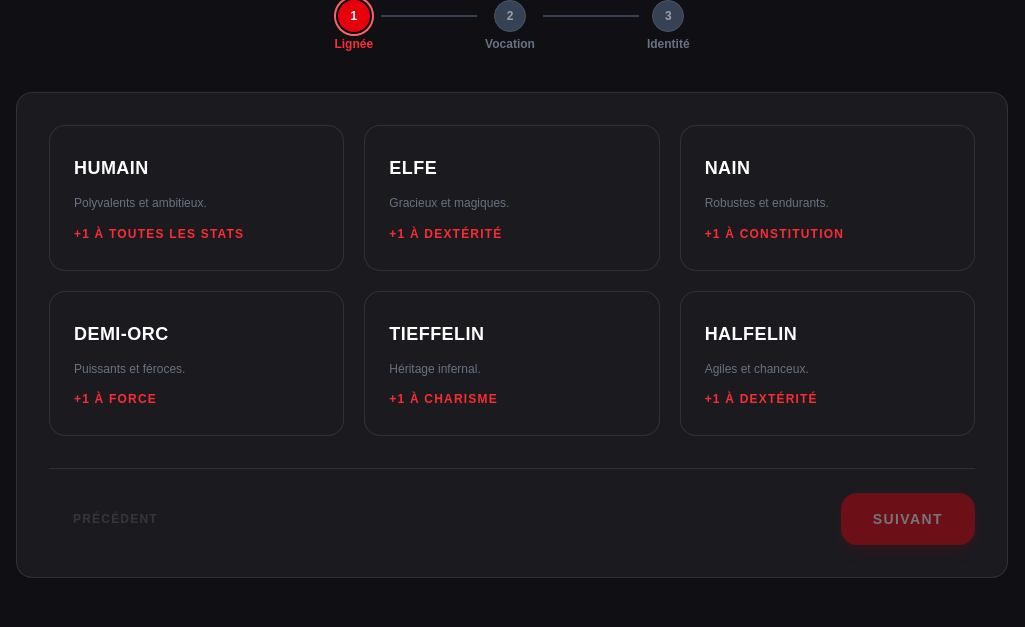
it: CharacterStep › navigation vers étape 2 — Identité › affiche le champ de saisie du nom
The image size is (1025, 627).
Click the text "Elfe" at (413, 168), box [389,158,437,178]
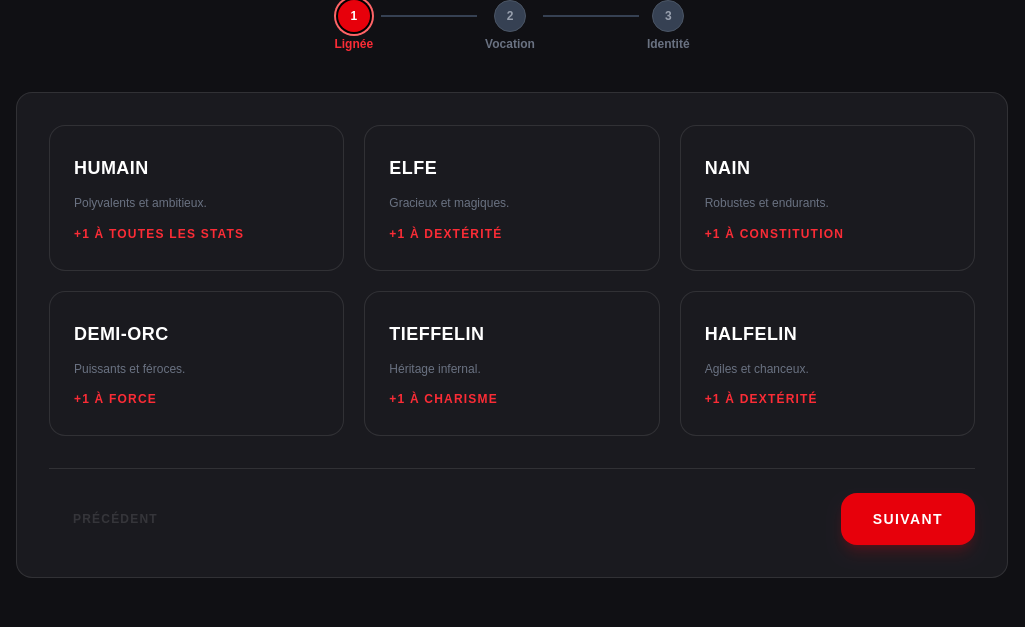
Click the button "Suivant" at (908, 519), box [841,493,975,545]
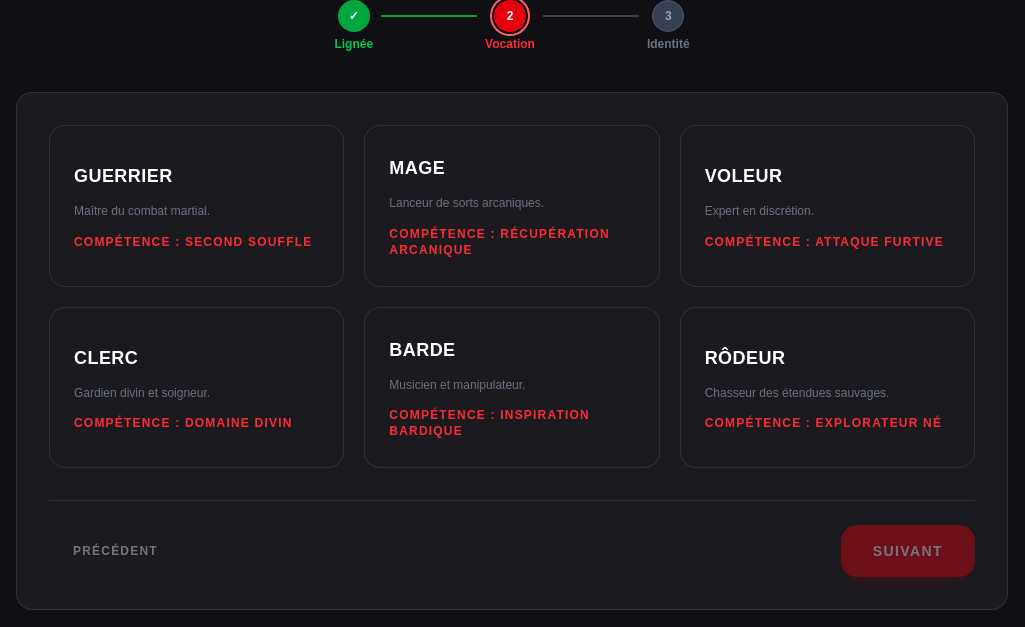
Click the text "Mage" at (417, 168), box [389,158,445,178]
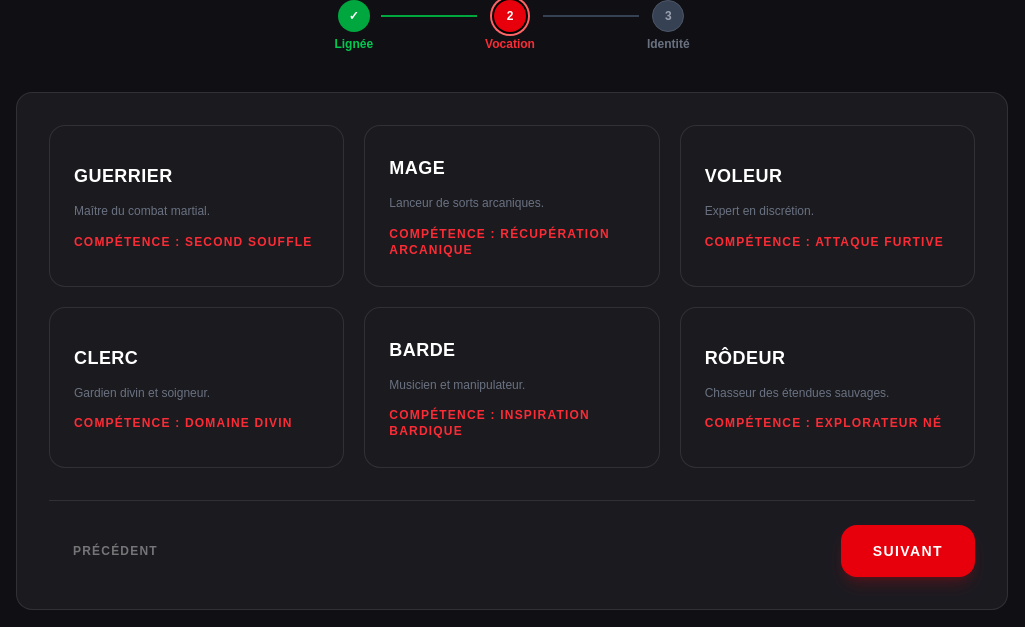
Click the button "Suivant" at (908, 551), box [841,525,975,577]
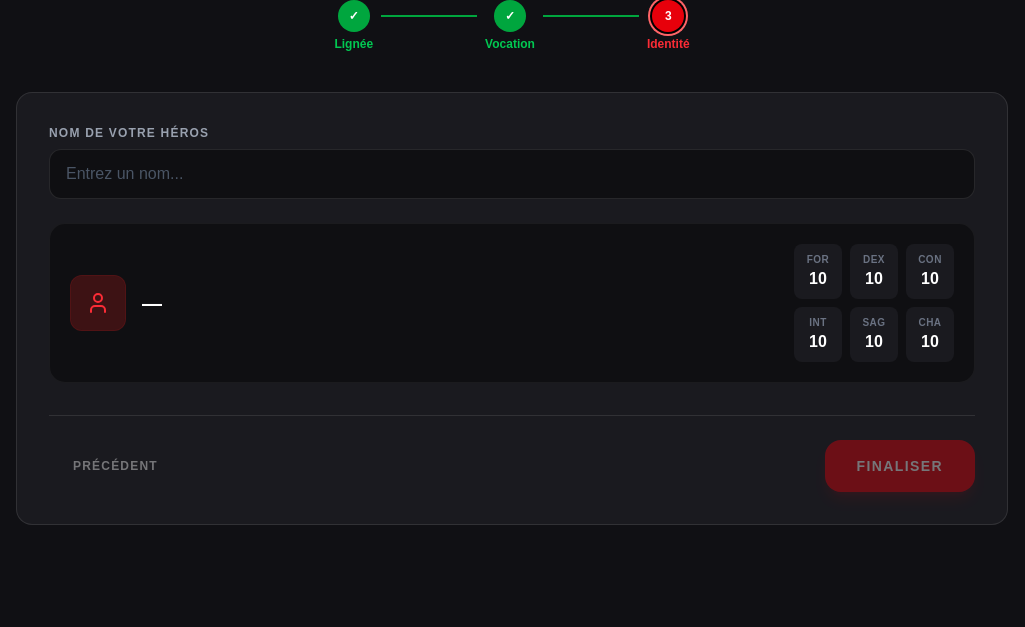
Expected: the field with placeholder "Entrez un nom..." is shown, [49,149,975,199]
